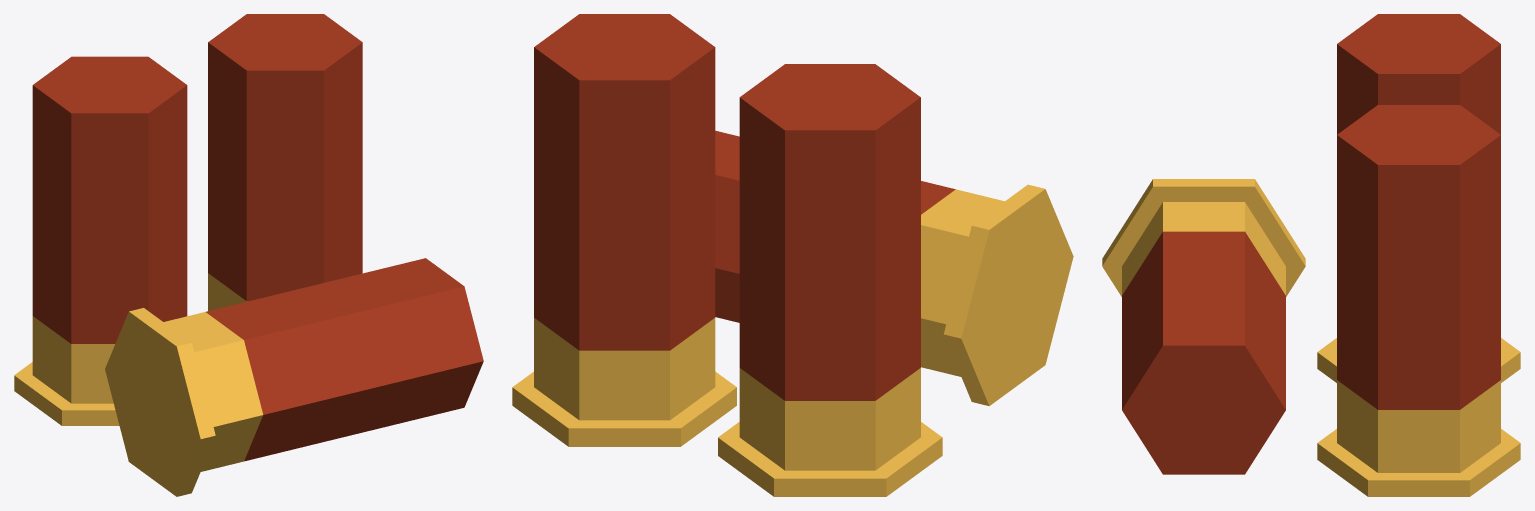
The model's file is pickup-shotgun-shells.glb.
The picture shows the model from 3 angles, left to right: view 1: azimuth 30°, elevation 25°; view 2: azimuth 150°, elevation 25°; view 3: azimuth 270°, elevation 25°; orthographic projection. The views are drawn at different scales.
Parts seen in each view (by area): view 1: ShotgunShells_TwoStanding_OneLying; view 2: ShotgunShells_TwoStanding_OneLying; view 3: ShotgunShells_TwoStanding_OneLying.
Boxes of the visible parts, x1,y1,x2,y2 form: ShotgunShells_TwoStanding_OneLying: [14, 14, 483, 496]; ShotgunShells_TwoStanding_OneLying: [512, 14, 1073, 496]; ShotgunShells_TwoStanding_OneLying: [1102, 14, 1520, 496].
Size of the model in its own units: 1.09 by 1 by 1.17.
